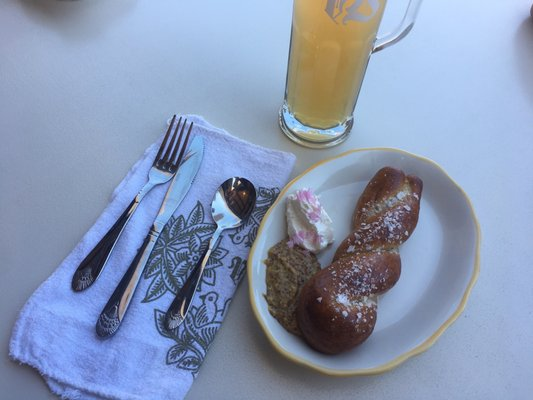burger: (77, 115, 194, 342), (155, 176, 255, 347)
pizza: (279, 1, 394, 150)
sushi: (244, 141, 483, 377)
